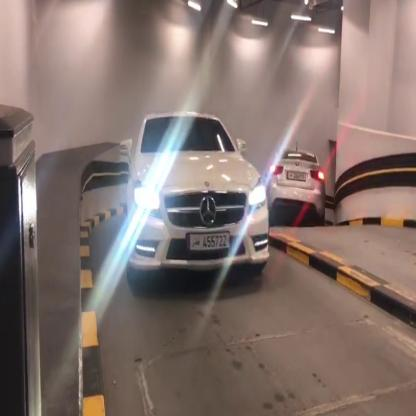np: (185, 229, 232, 254), (286, 166, 307, 184)
